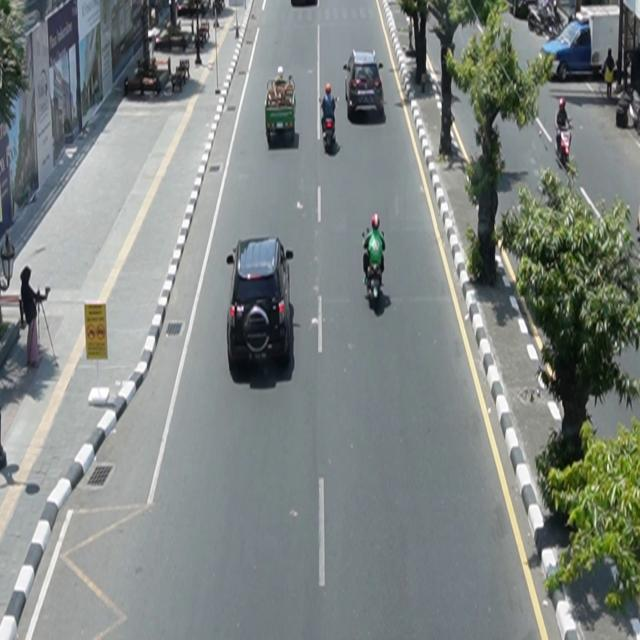car: (227, 236, 295, 371), (344, 49, 385, 119)
